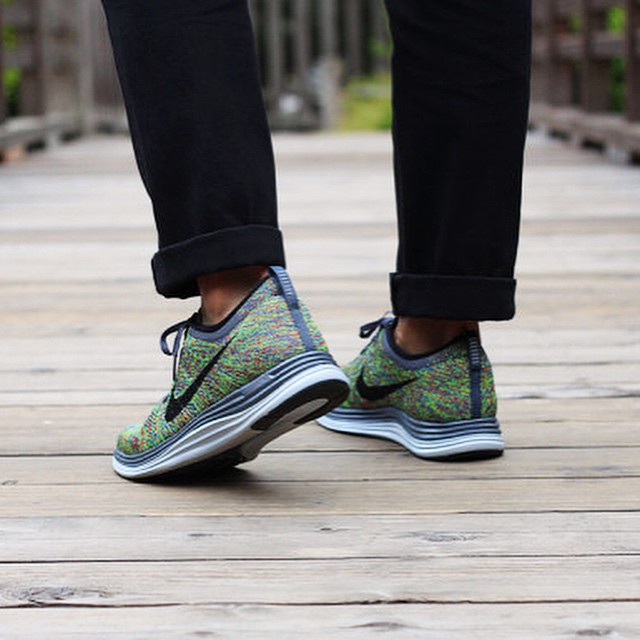sneaker: (92, 253, 362, 526), (302, 294, 519, 480)
